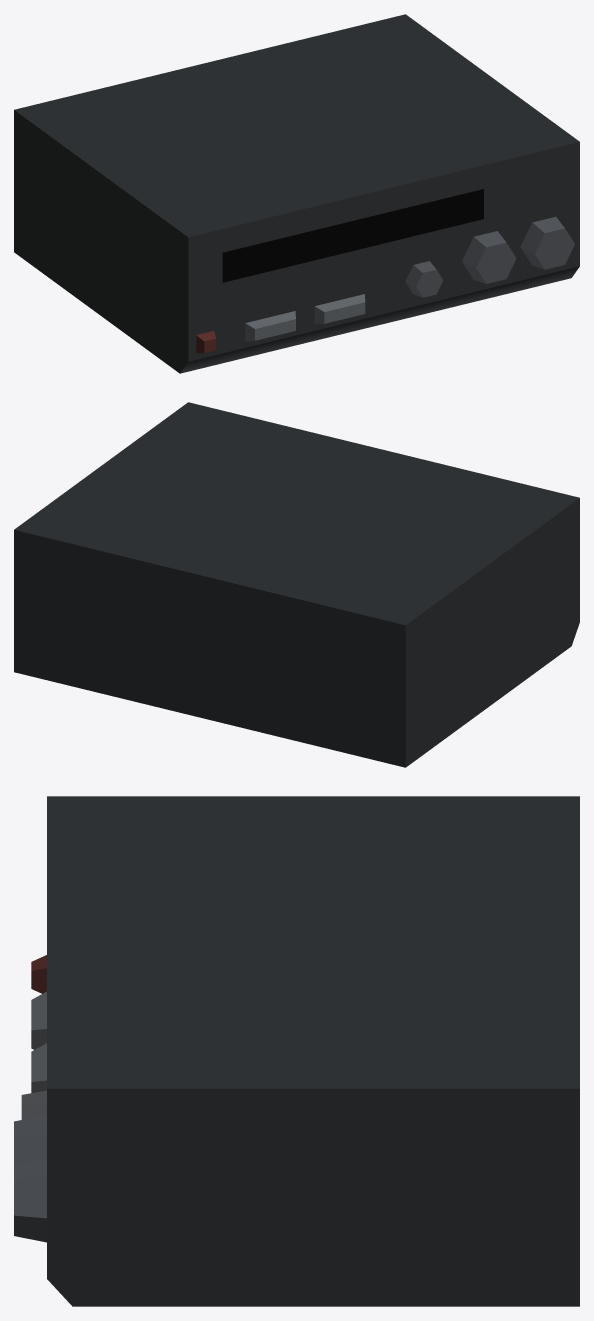
The model's file is SM_Prop_Electronics_VCR_03.glb.
3 renders of one model, top to bottom at view 1: azimuth 30°, elevation 25°; view 2: azimuth 150°, elevation 25°; view 3: azimuth 270°, elevation 25°, orthographic. The views are drawn at different scales.
Parts seen in each view (by area): view 1: SM_Prop_Electronics_VCR_03; view 2: SM_Prop_Electronics_VCR_03; view 3: SM_Prop_Electronics_VCR_03.
Boxes of the visible parts, box(x1,y1,x2,y2) form: SM_Prop_Electronics_VCR_03: box(14, 14, 579, 373); SM_Prop_Electronics_VCR_03: box(14, 402, 579, 767); SM_Prop_Electronics_VCR_03: box(14, 796, 579, 1306).
Bounding box in the file's own units: 0.7326 × 0.2546 × 0.5996.
1 material, 1 textured.
